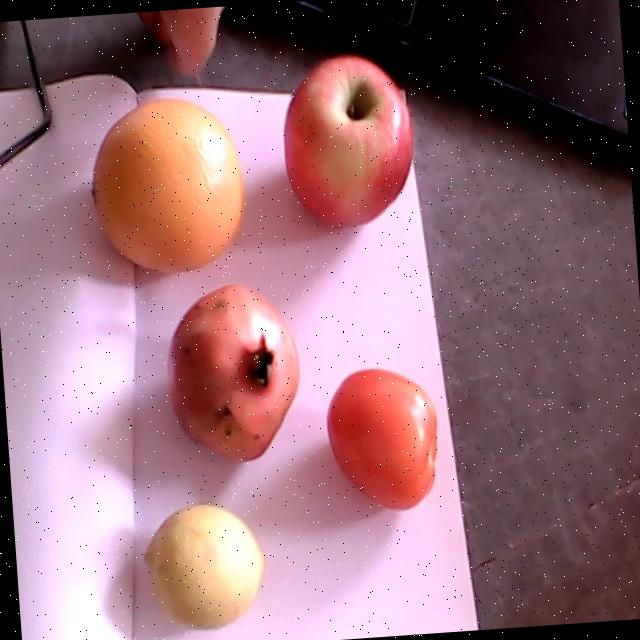apple: (284, 56, 413, 227)
lemon: (145, 503, 265, 631)
orange: (92, 97, 244, 272)
pomegranate: (169, 283, 300, 460)
tomato: (327, 369, 436, 510)
